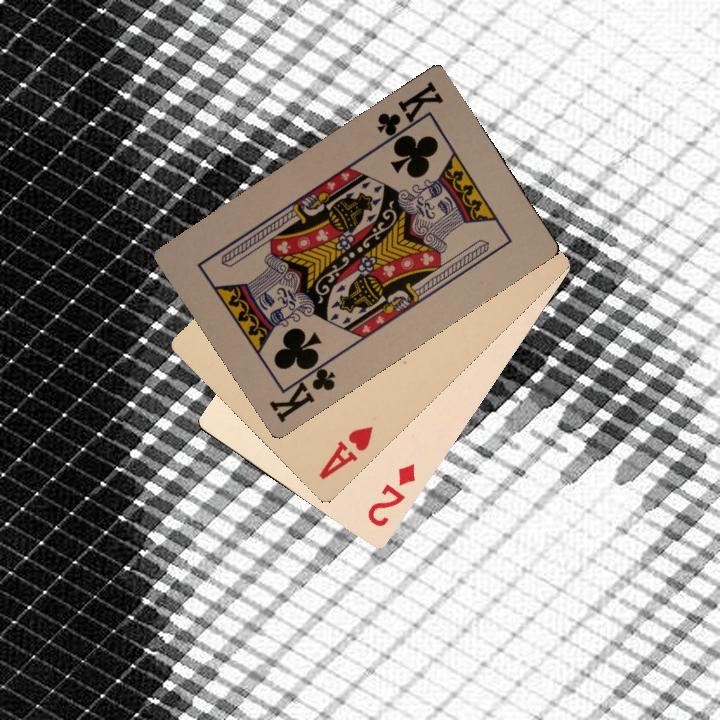2d: (361, 460, 419, 530)
Ah: (314, 422, 376, 483)
Kc: (264, 355, 338, 425), (372, 77, 446, 147)
